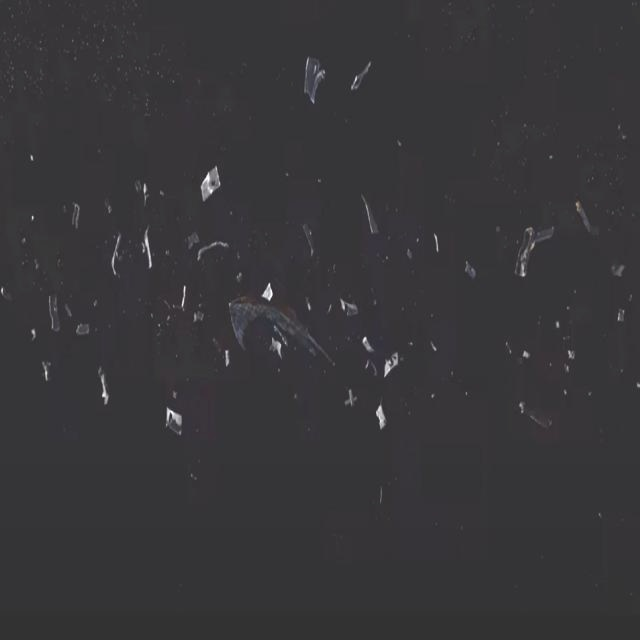large_debris: (220, 296, 324, 371), (517, 219, 557, 294), (42, 292, 92, 342), (300, 47, 324, 117), (139, 219, 163, 287), (353, 203, 389, 246), (159, 395, 185, 451), (196, 163, 228, 205), (90, 368, 114, 420), (198, 240, 238, 270), (110, 225, 128, 286), (373, 397, 391, 445), (382, 349, 404, 386), (338, 289, 362, 321), (357, 326, 375, 366), (39, 360, 54, 394)
